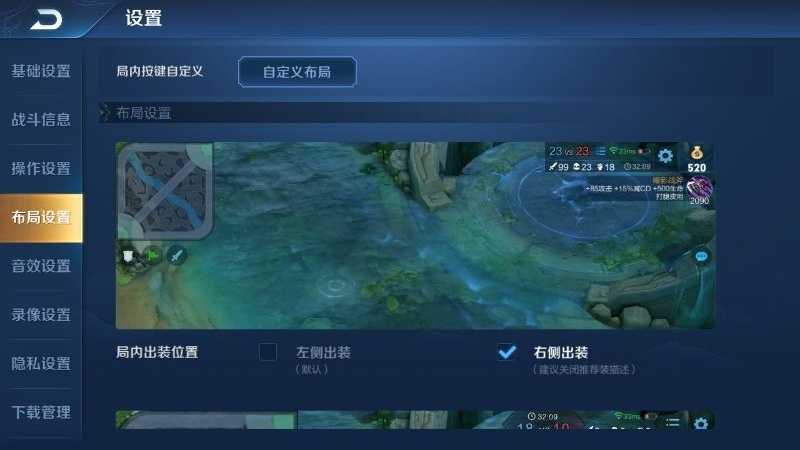return: (22, 2, 75, 33)
tag: (114, 140, 216, 235), (1, 243, 79, 285), (1, 342, 82, 378), (1, 293, 79, 328), (1, 97, 74, 133), (8, 152, 73, 188), (8, 59, 75, 87)
